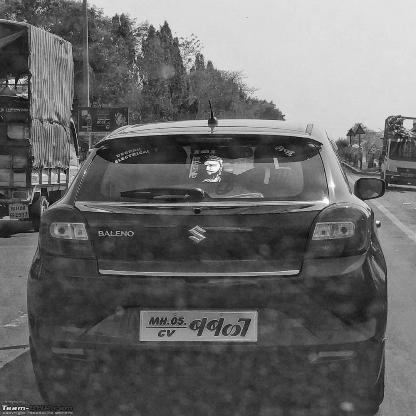license plate: (134, 302, 272, 356)
